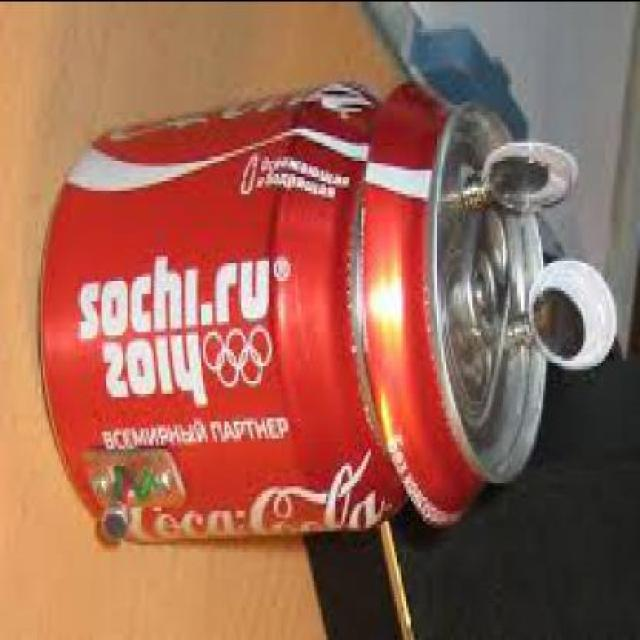METAL: (38, 76, 550, 547)
